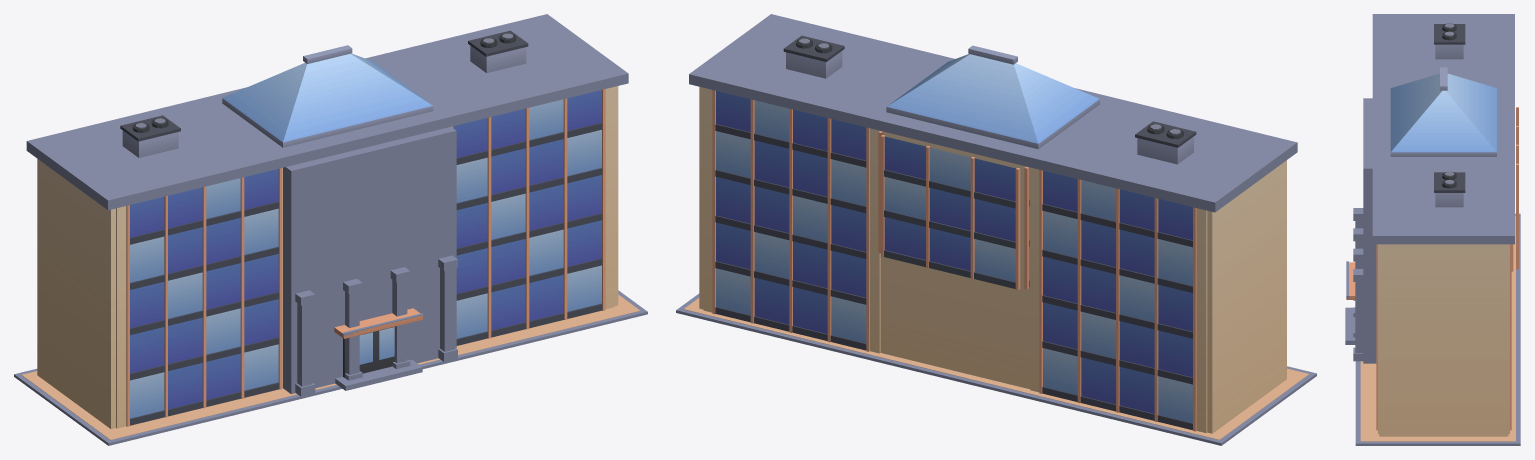
File: off_colonnade_hq_3x1.glb
3 renders of one model, left to right at view 1: azimuth 30°, elevation 25°; view 2: azimuth 150°, elevation 25°; view 3: azimuth 270°, elevation 25°, orthographic. The views are drawn at different scales.
Parts seen in each view (by area): view 1: off_colonnade_hq_3x1; view 2: off_colonnade_hq_3x1; view 3: off_colonnade_hq_3x1.
Boxes of the visible parts, <box> form: off_colonnade_hq_3x1: <box>14,14,647,445</box>; off_colonnade_hq_3x1: <box>676,14,1316,445</box>; off_colonnade_hq_3x1: <box>1345,14,1520,445</box>.
Size of the model in its own units: 5.52 by 2.85 by 1.78.
1 material, 1 textured.
